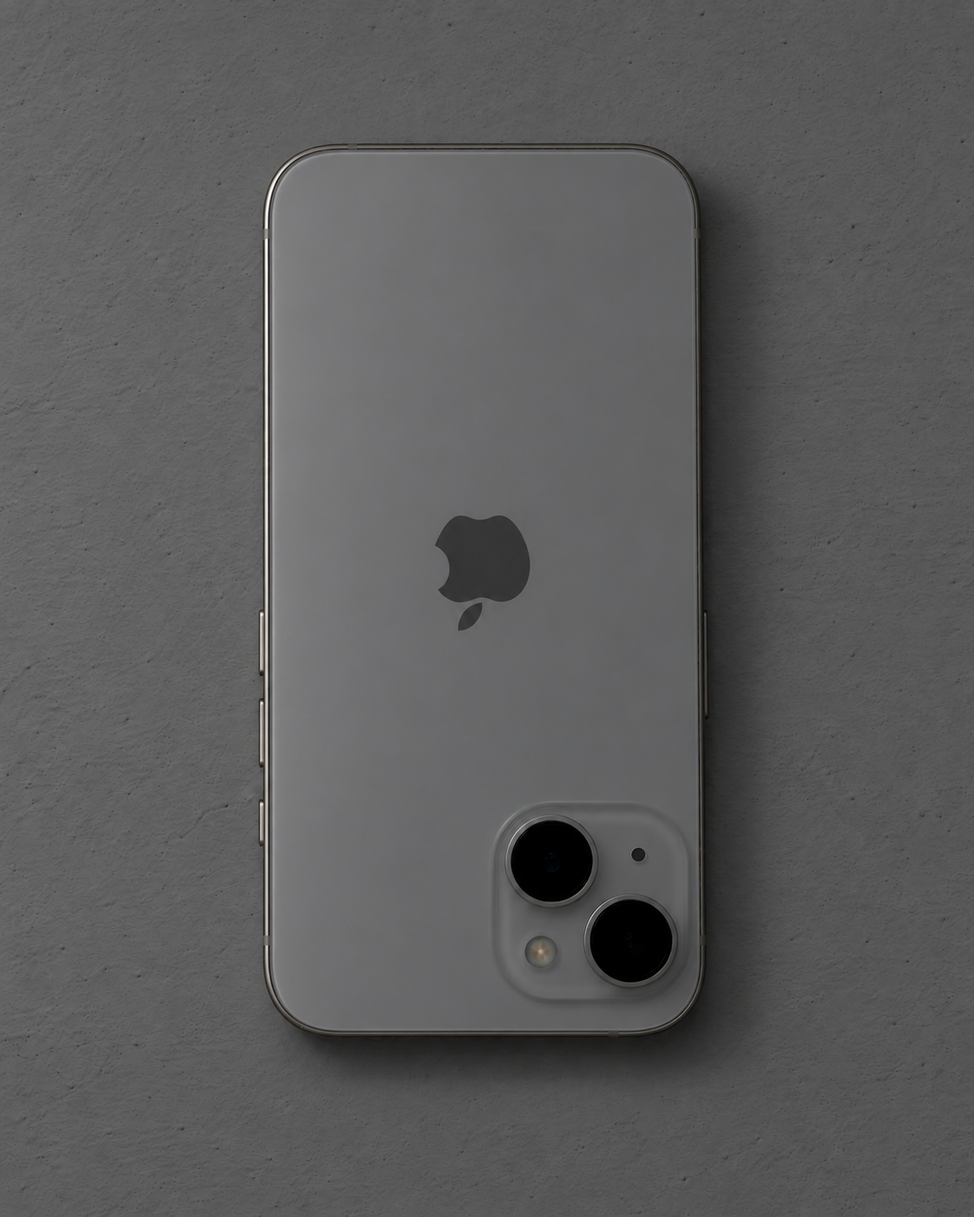iphone_14_white: (189, 112, 759, 1091), (490, 808, 694, 1006)
